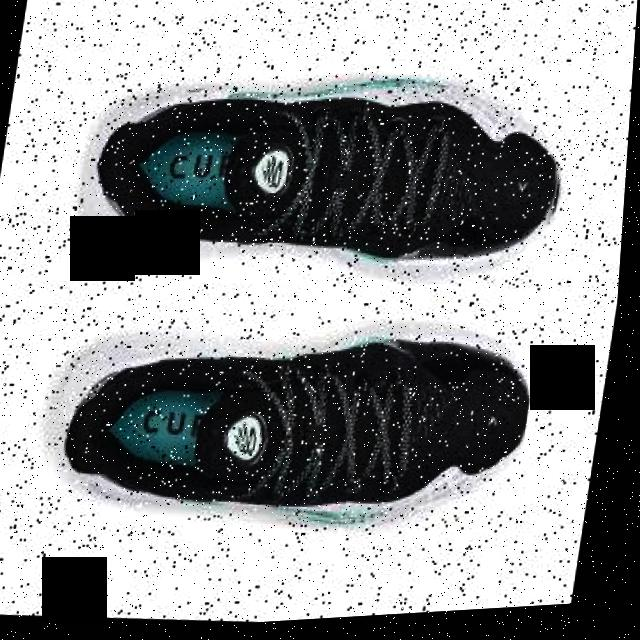shoe: (68, 45, 581, 318), (37, 288, 548, 558)
